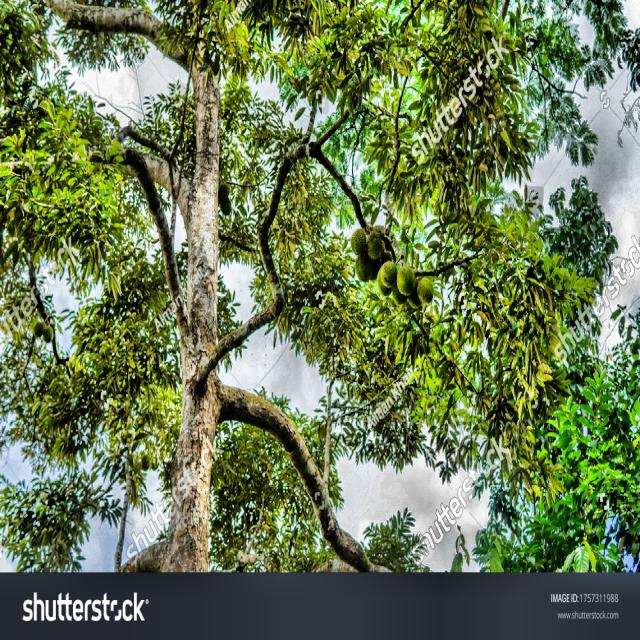arvore: (157, 27, 232, 564)
